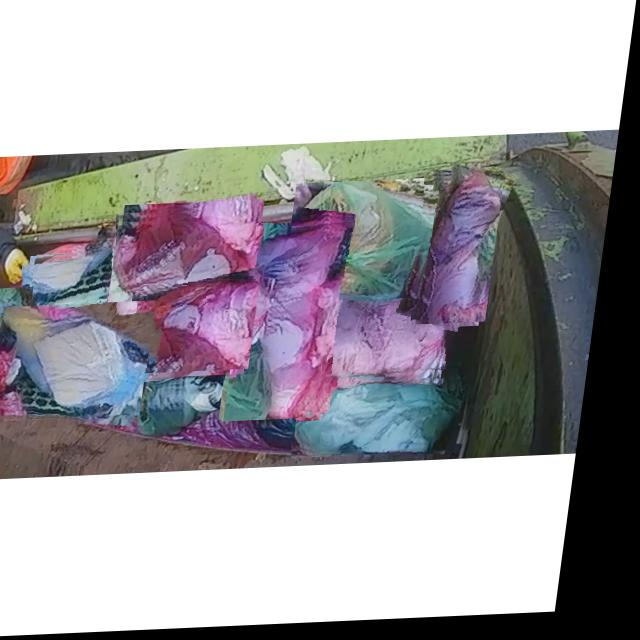general_trashbag: (295, 185, 448, 306), (307, 380, 473, 458), (33, 250, 137, 358), (0, 289, 32, 383)
other_trashbag: (253, 228, 351, 422), (120, 213, 261, 343), (11, 308, 155, 424), (422, 175, 506, 329), (312, 303, 452, 384), (146, 284, 266, 371)
